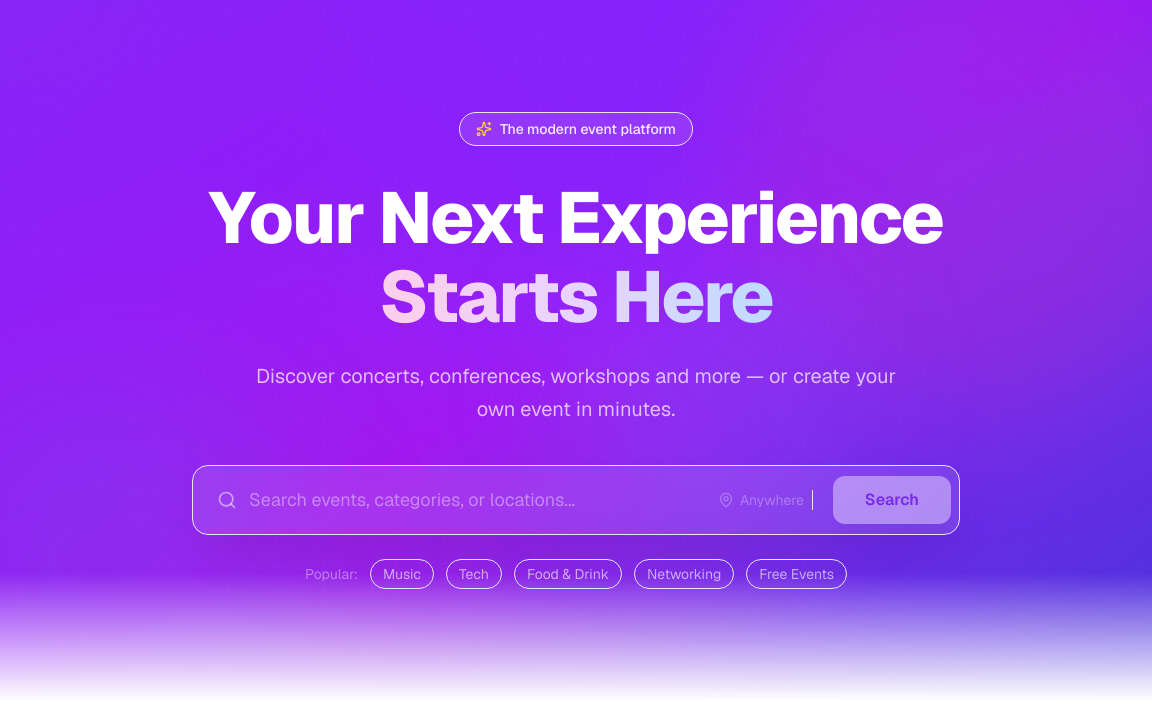
Test: HeroSection › search functionality › should enable search button when input has text
Type "jazz" into the field with placeholder "Search events, categories, or locations..." at (478, 500), box [249,474,706,526]
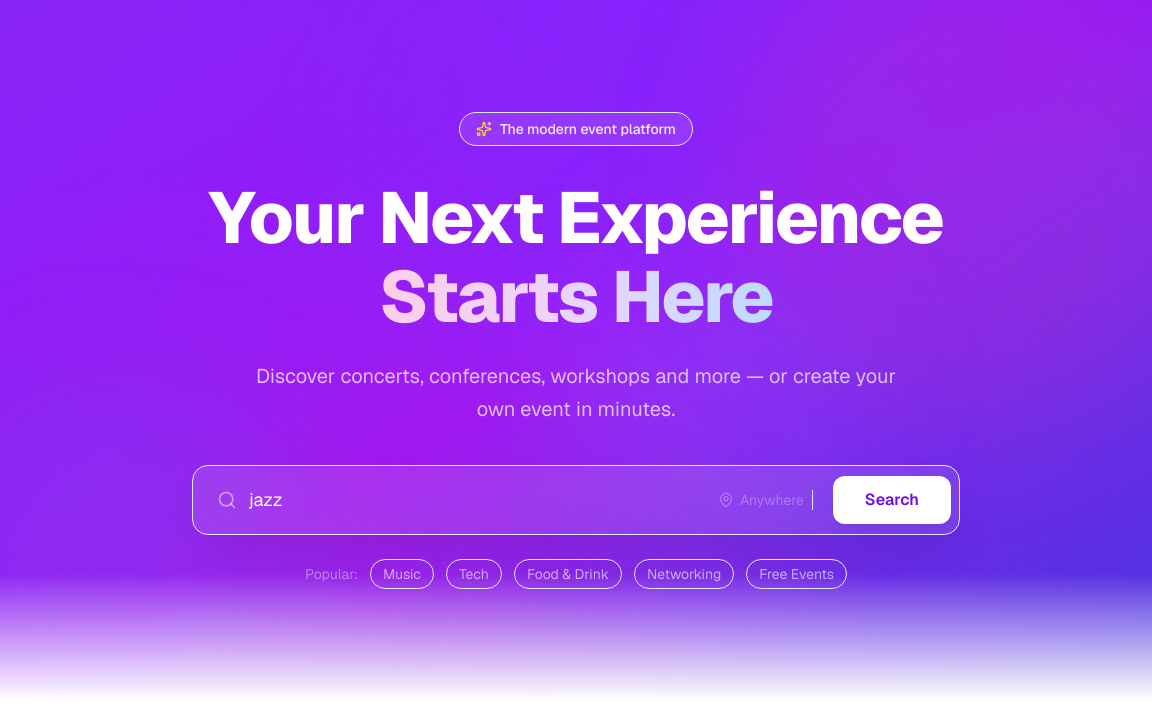
Check: the button "Search" is enabled, box [833,476,951,524]
